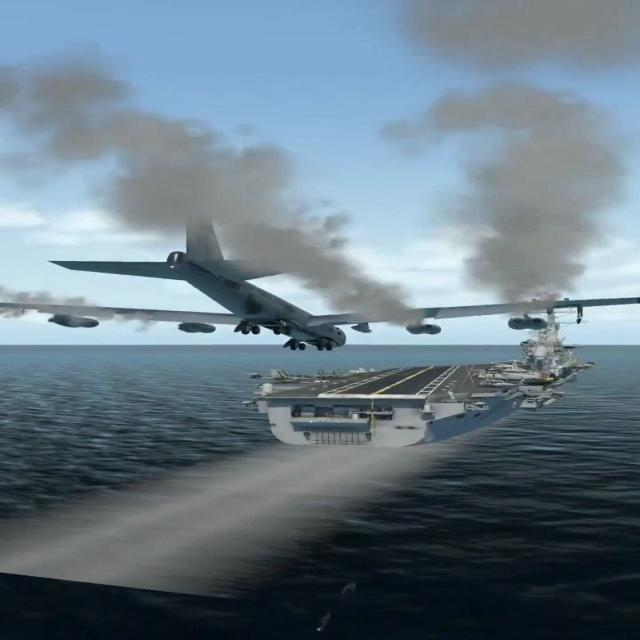Smoke: (424, 85, 618, 298), (24, 80, 302, 216), (232, 219, 416, 327)
